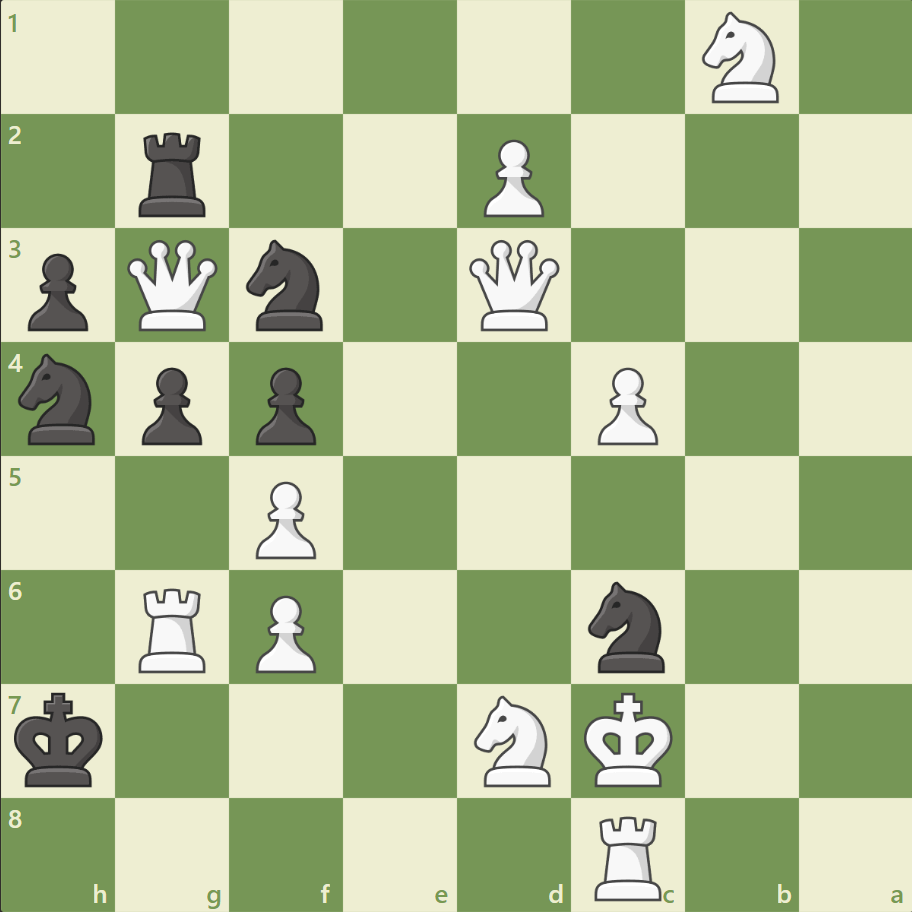K: (579, 685, 679, 793)
N: (465, 688, 562, 791), (692, 7, 789, 110)
P: (247, 586, 322, 677), (247, 473, 322, 564), (474, 132, 549, 223), (588, 359, 662, 450)
Q: (464, 236, 563, 335), (124, 236, 223, 335)
R: (587, 806, 670, 904), (133, 579, 215, 676)
k: (11, 685, 111, 793)
n: (238, 234, 335, 337), (579, 575, 676, 677), (11, 348, 108, 450)
p: (247, 359, 322, 450), (133, 359, 208, 450), (20, 246, 95, 337)
r: (133, 125, 215, 222)
